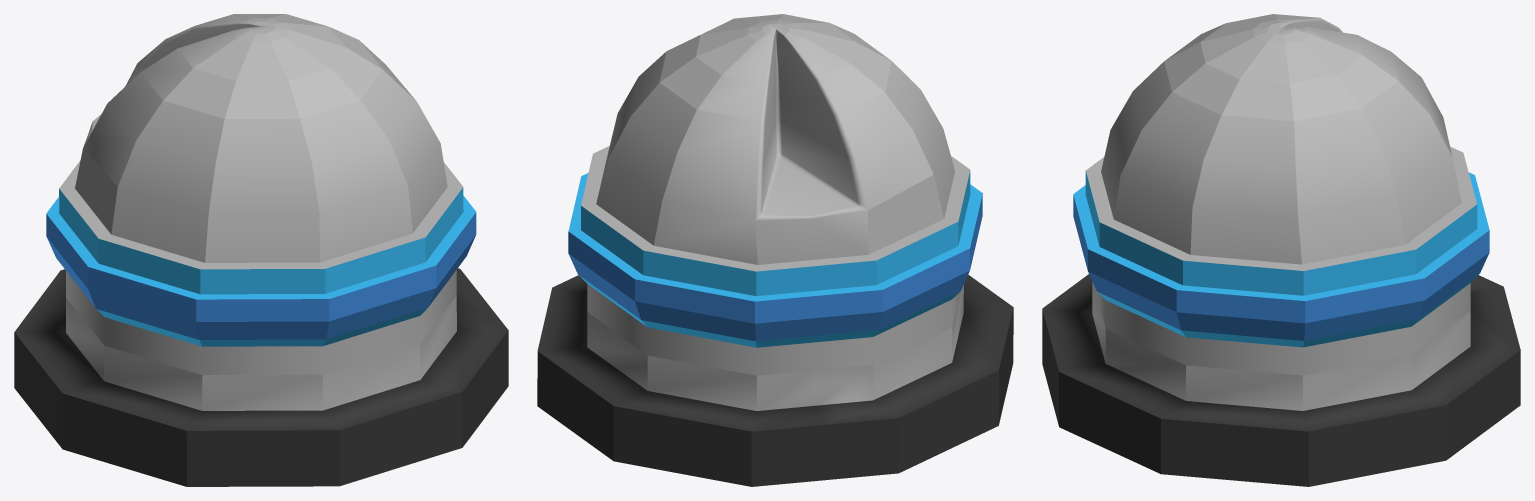
File: telescopio_cuerpo.fbx
The picture shows the model from 3 angles, left to right: view 1: azimuth 30°, elevation 25°; view 2: azimuth 150°, elevation 25°; view 3: azimuth 270°, elevation 25°; orthographic projection.
Visible parts, largest first — view 1: telescopioCuerpo; view 2: telescopioCuerpo; view 3: telescopioCuerpo.
Part boxes in pixels (x1,y1,x2,y2): telescopioCuerpo: (14,14,508,486); telescopioCuerpo: (537,14,1013,486); telescopioCuerpo: (1042,14,1520,486).
Size of the model in its own units: 991 by 803 by 977.
